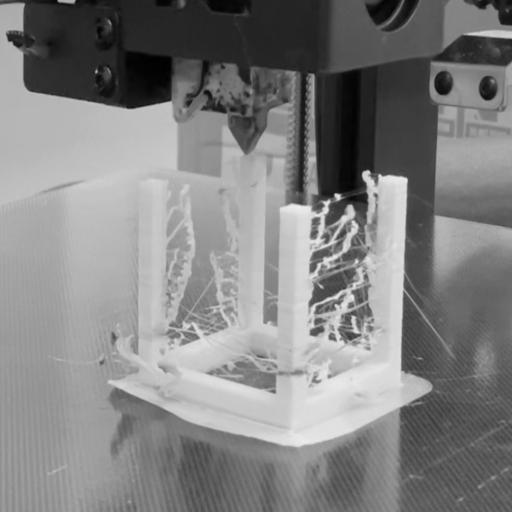spaghetti_and_stringing: (164, 171, 279, 375), (304, 190, 393, 366), (94, 327, 154, 371)
warp: (98, 374, 210, 426), (221, 415, 329, 458)
